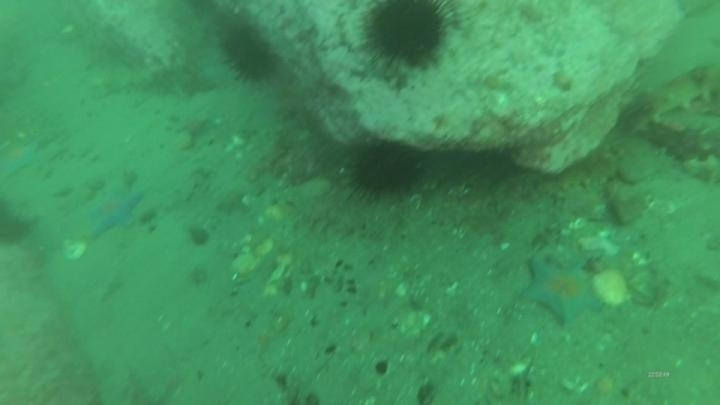echinus: (361, 1, 457, 72), (345, 138, 425, 202), (218, 22, 281, 85), (1, 197, 35, 251)
holothurian: (617, 60, 719, 134), (543, 153, 625, 199)
starfish: (520, 255, 605, 329), (81, 183, 146, 241), (1, 136, 44, 180)
